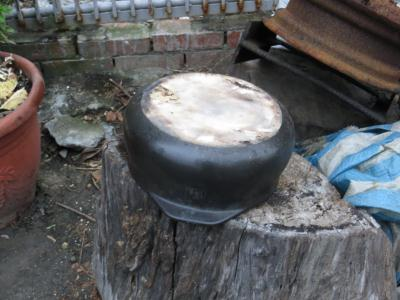bowl: (119, 69, 300, 228)
plastic_bag: (333, 120, 400, 209)
